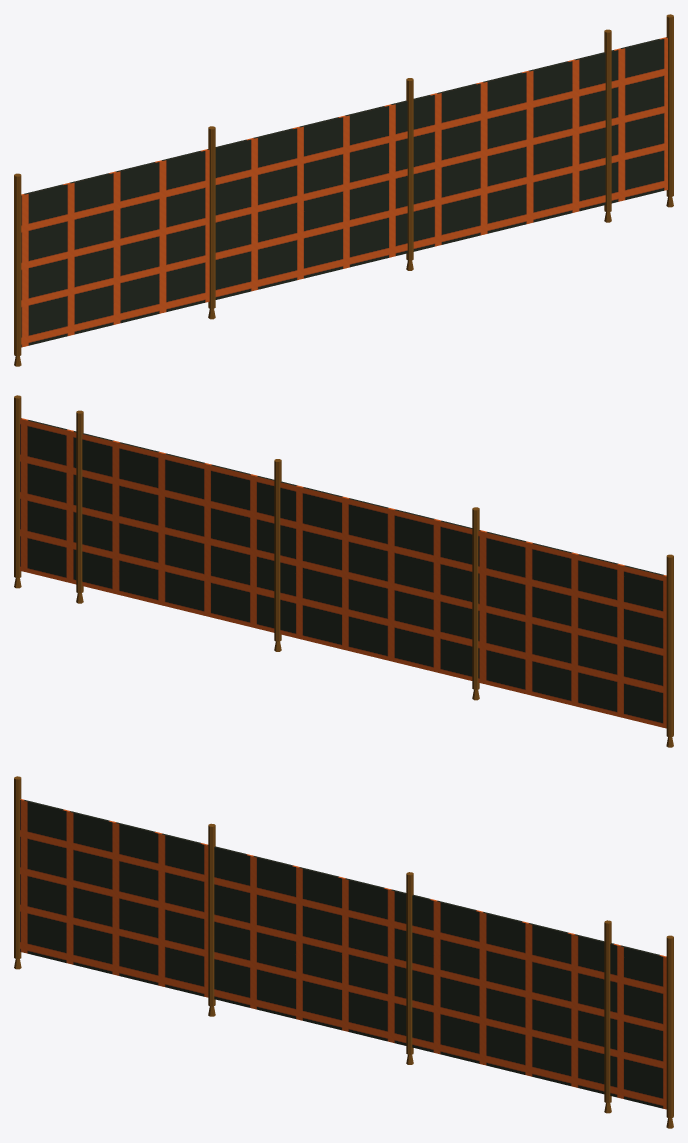
Rendered from safetynet_orange_5m.dae.
3 renders of one model, top to bottom at view 1: azimuth 30°, elevation 25°; view 2: azimuth 150°, elevation 25°; view 3: azimuth 330°, elevation 25°, orthographic.
Visible parts, largest first — view 1: netting, stake_0, stake_3, stake_2, stake_1, stake_4; view 2: netting, stake_0, stake_3, stake_2, stake_1, stake_4; view 3: netting, stake_4, stake_1, stake_3, stake_2, stake_0.
Part boxes in pixels (x1,y1,x2,y2): netting: (21,37,667,347); stake_0: (14,173,21,356); stake_3: (604,29,611,212); stake_2: (406,78,413,260); stake_1: (208,126,215,308); stake_4: (666,14,673,197); netting: (20,418,666,728); stake_0: (666,554,673,737); stake_3: (76,410,83,593); stake_2: (274,459,281,641); stake_1: (472,507,479,689); stake_4: (14,395,21,578); netting: (20,799,666,1109); stake_4: (666,935,673,1118); stake_1: (208,823,215,1006); stake_3: (604,920,611,1103); stake_2: (406,872,413,1054); stake_0: (14,776,21,959).
Bounding box in the file's own units: 4.99 × 0.05 × 1.37.
2 materials, 2 textured.
